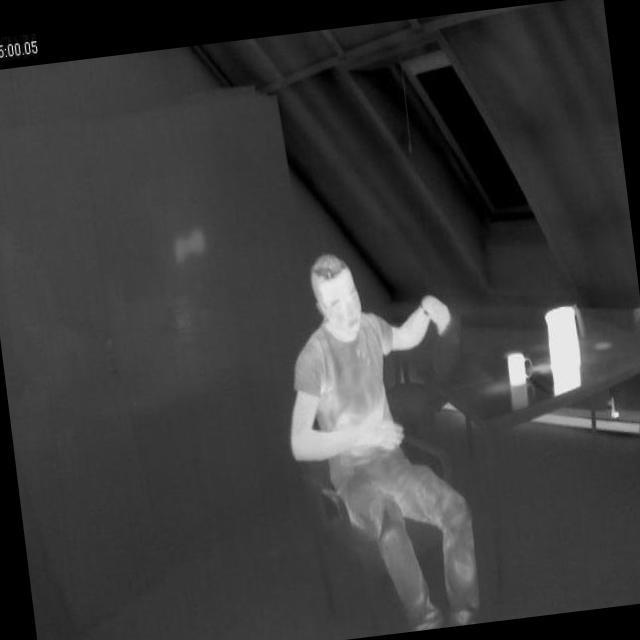person: (266, 239, 500, 640)
